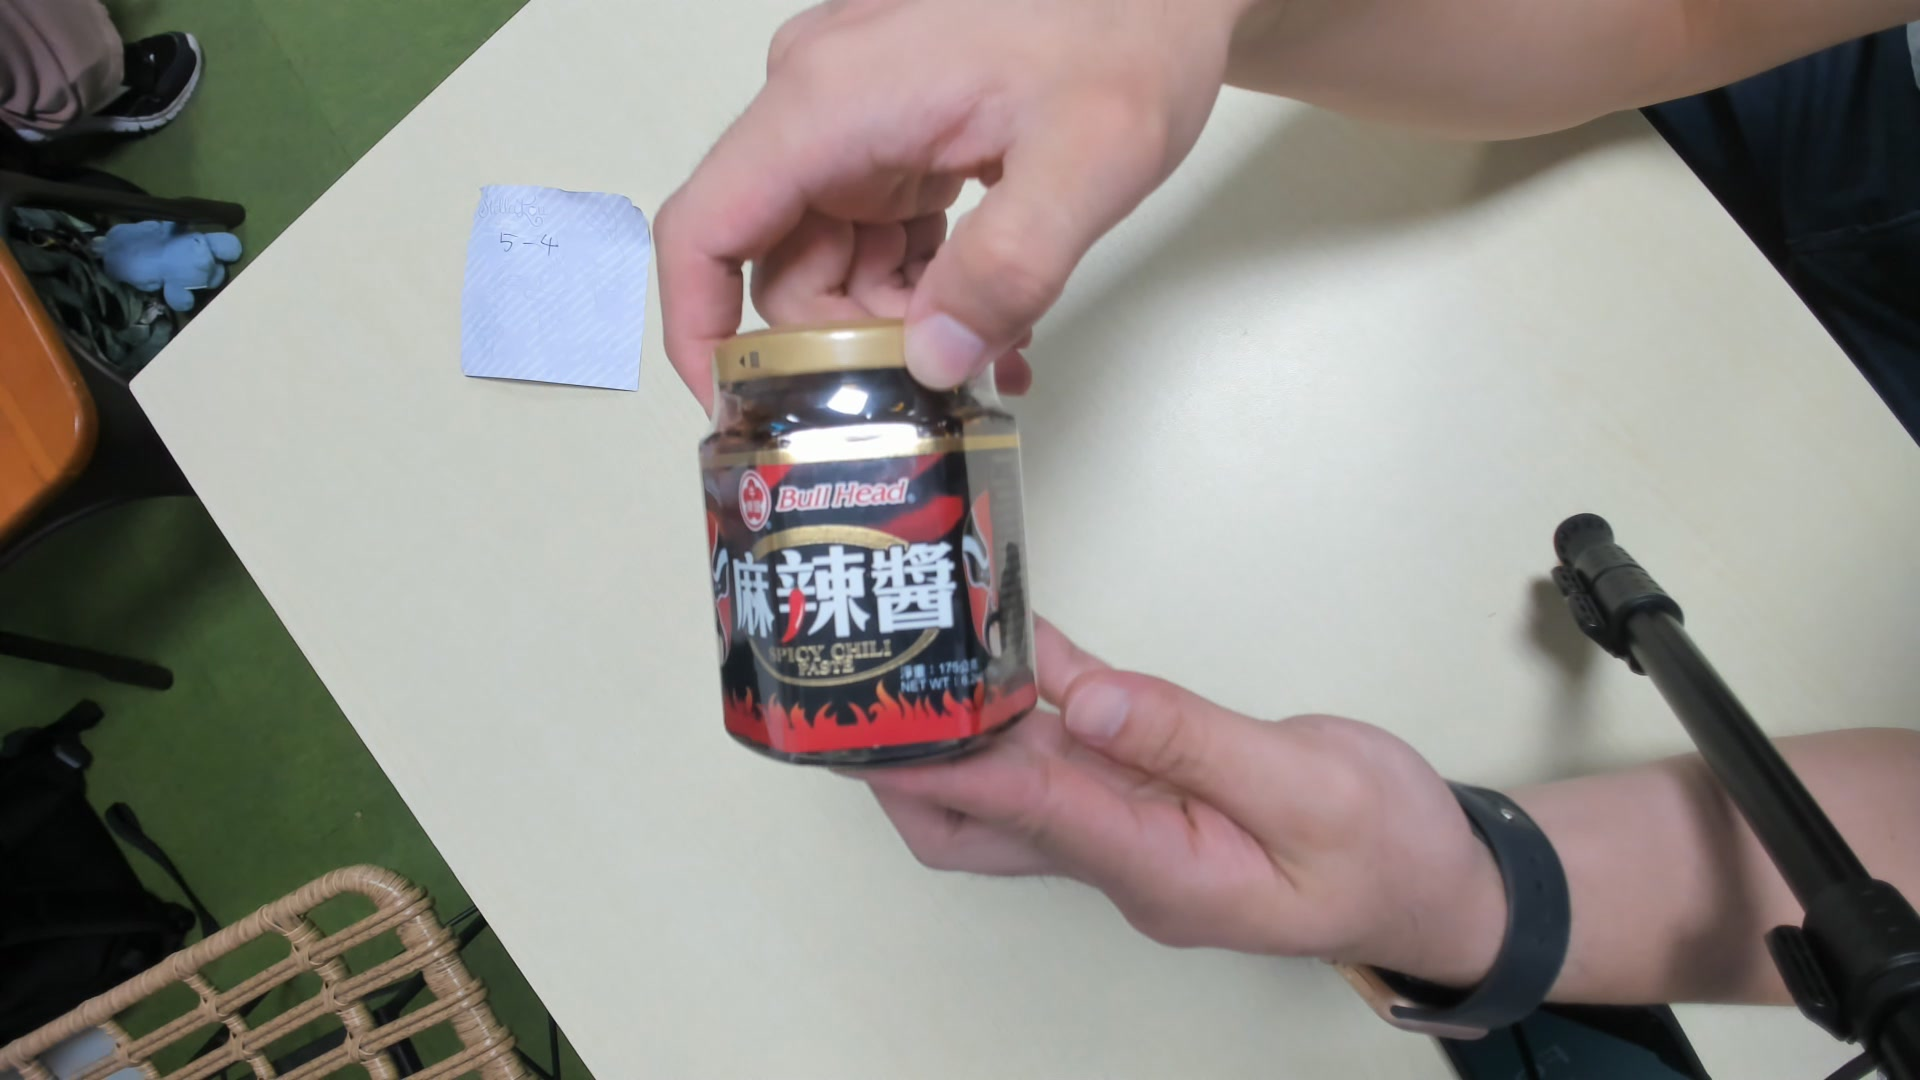OtherSauceDressing_100-199g_NonHalal_NonHealthy: (700, 331, 1043, 771)
